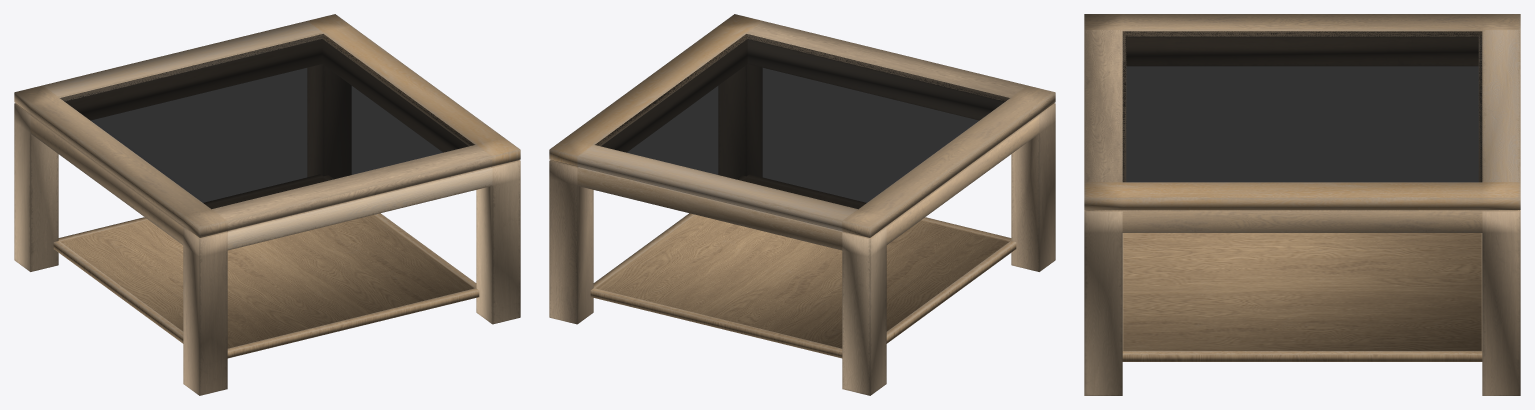
The picture shows the model from 3 angles, left to right: view 1: azimuth 30°, elevation 25°; view 2: azimuth 150°, elevation 25°; view 3: azimuth 270°, elevation 25°; orthographic projection. The views are drawn at different scales.
Parts seen in each view (by area): view 1: tablebasse_lp001; view 2: tablebasse_lp001; view 3: tablebasse_lp001.
Boxes of the visible parts, bbox=[...] form: tablebasse_lp001: bbox=[14, 14, 520, 395]; tablebasse_lp001: bbox=[549, 14, 1055, 395]; tablebasse_lp001: bbox=[1084, 14, 1520, 395].
Size of the model in its own units: 80 by 40.01 by 80.
2 materials, 1 textured.
